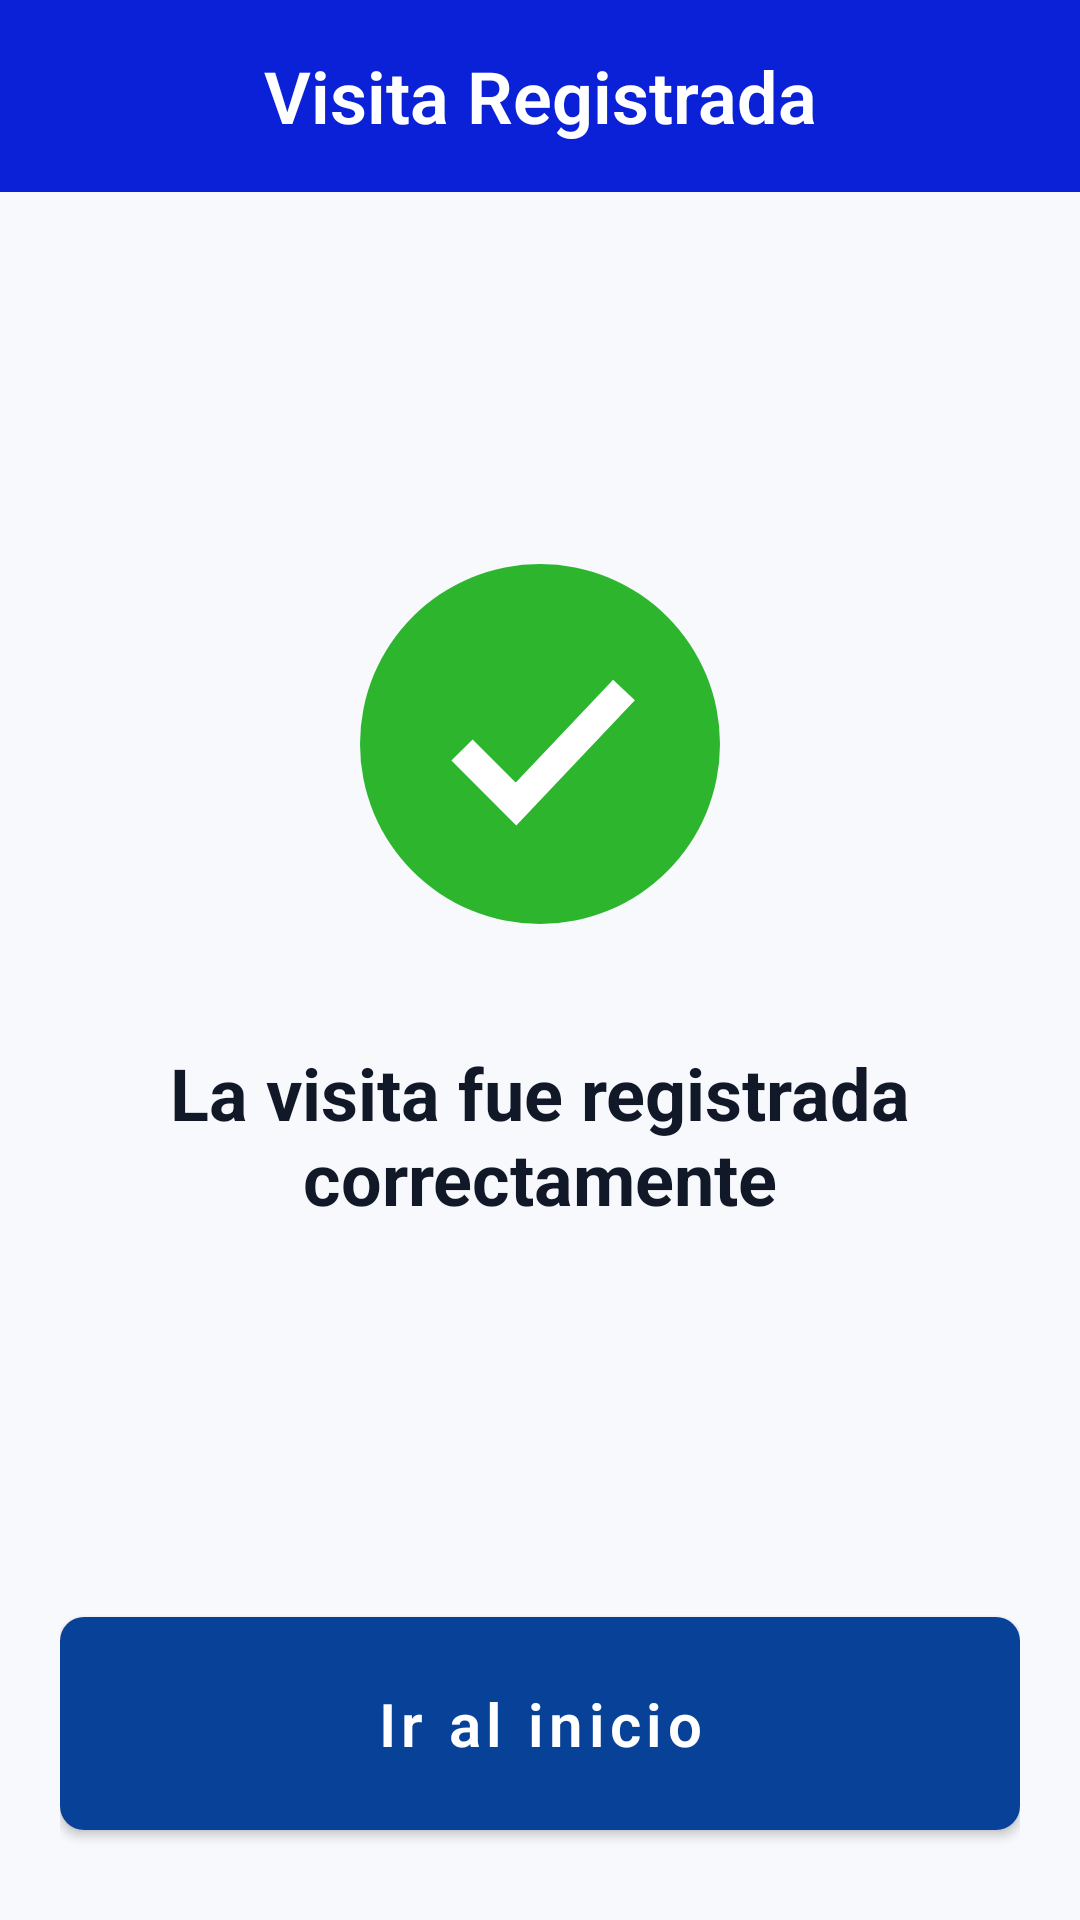

Locate icon controls on the screen. Image size 1080w x 1920h, boxes as (x1=x1, y1=y1, x2=x2, y2=y2).
Registro exitoso: (x1=360, y1=564, x2=720, y2=924)
